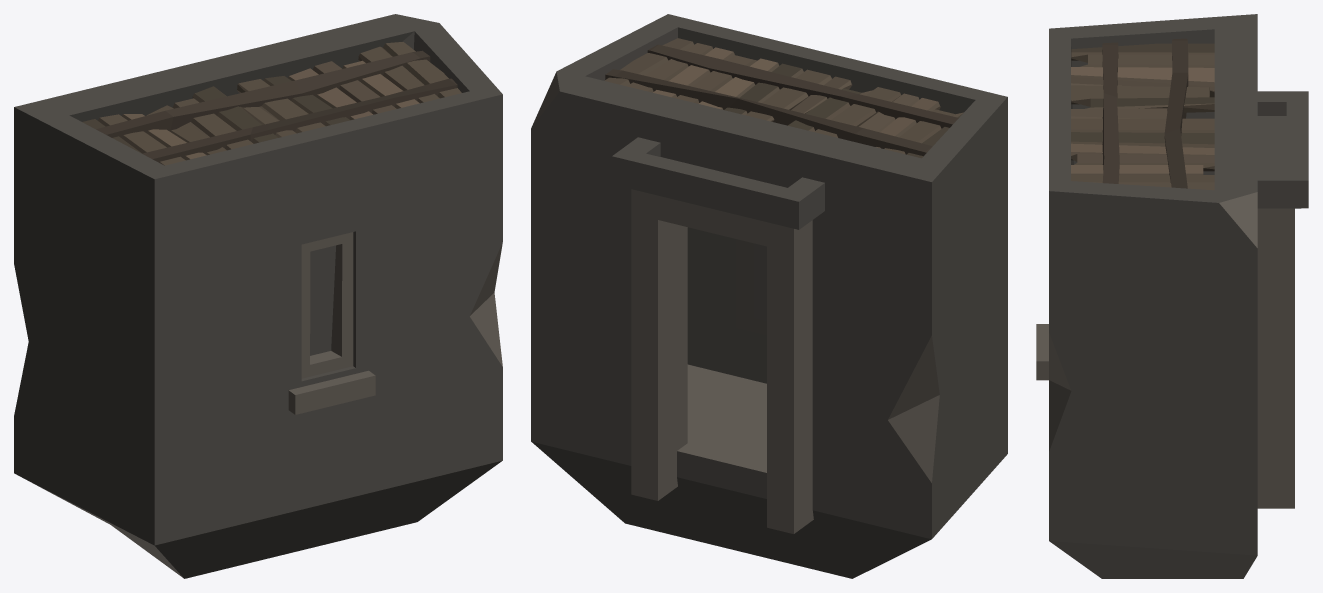
File: SM_Bld_Fort_Tower_Room_01.glb
3 views of the same model, side by side, from view 1: azimuth 30°, elevation 25°; view 2: azimuth 150°, elevation 25°; view 3: azimuth 270°, elevation 25° (orthographic). The views are drawn at different scales.
Parts seen in each view (by area): view 1: SM_Bld_Fort_Tower_Room_01; view 2: SM_Bld_Fort_Tower_Room_01; view 3: SM_Bld_Fort_Tower_Room_01.
Part boxes in pixels (box(x1,y1,x2,y2)): SM_Bld_Fort_Tower_Room_01: box(14, 14, 502, 578); SM_Bld_Fort_Tower_Room_01: box(531, 14, 1007, 578); SM_Bld_Fort_Tower_Room_01: box(1036, 14, 1308, 578).
Bounding box in the file's own units: 0.0316 × 0.0319 × 0.019.
